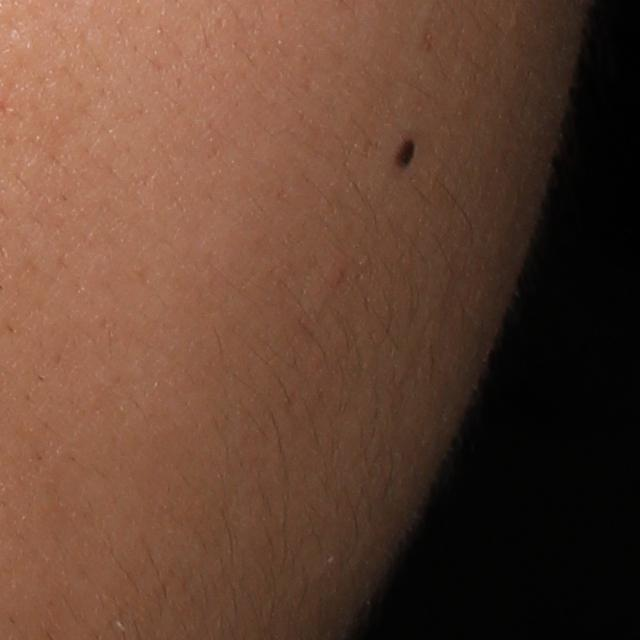nevus: (390, 136, 419, 165)
